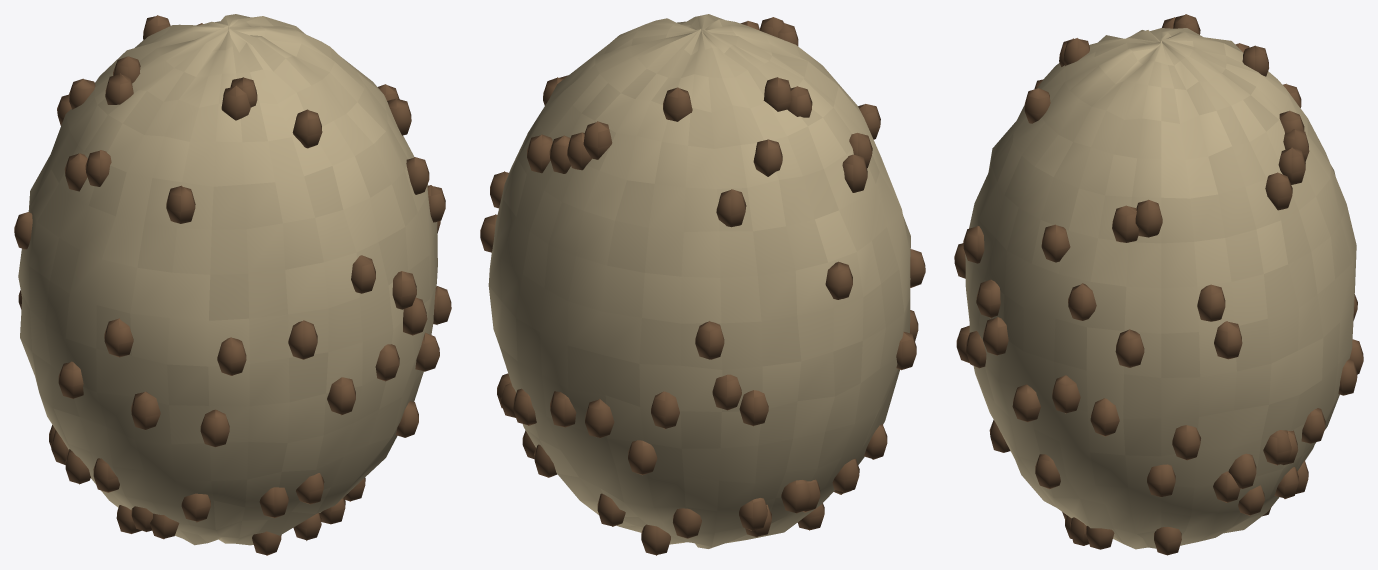
File: QuailEgg.glb
3 views of the same model, side by side, from view 1: azimuth 30°, elevation 25°; view 2: azimuth 150°, elevation 25°; view 3: azimuth 270°, elevation 25° (orthographic).
Parts seen in each view (by area): view 1: QuailEgg; view 2: QuailEgg; view 3: QuailEgg.
Part boxes in pixels (x1=…): QuailEgg: x1=14, y1=14, x2=451, y2=555; QuailEgg: x1=480, y1=14, x2=925, y2=555; QuailEgg: x1=954, y1=14, x2=1363, y2=555.
Size of what is drawn, in the model's own units: 0.0294 by 0.0368 by 0.0273.
